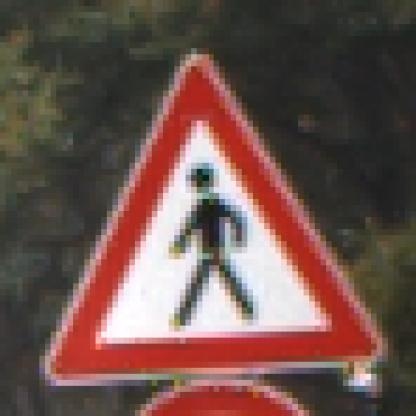crosswalk: (52, 40, 381, 375)
